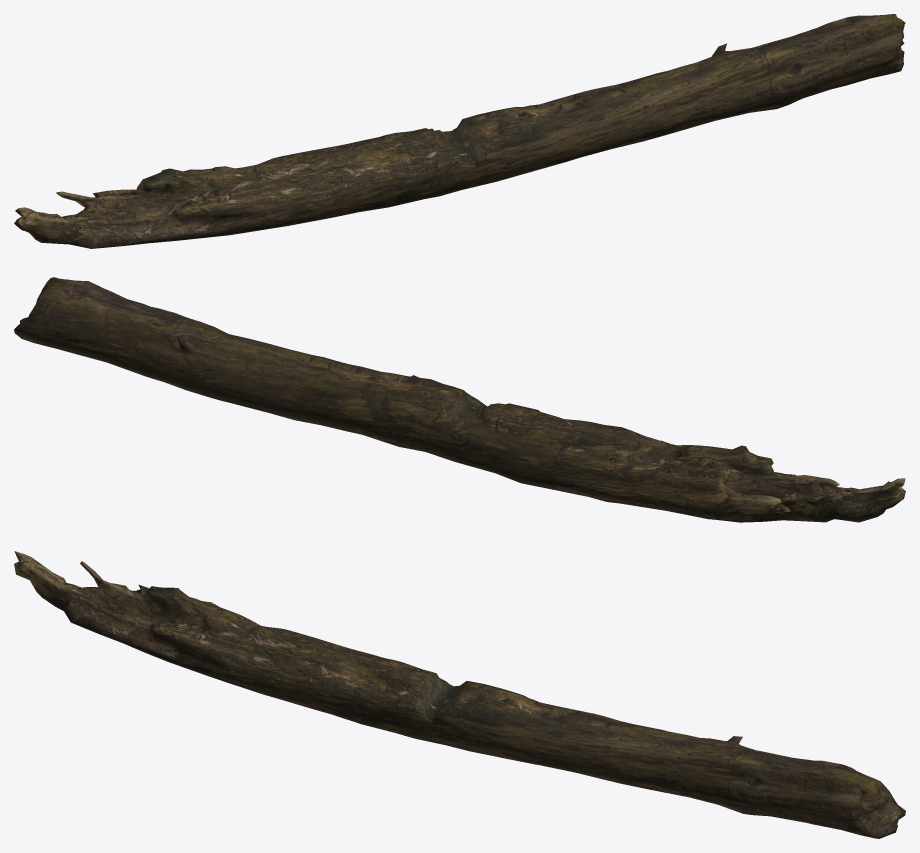
Rendered from dead_tree_trunk.glb.
The picture shows the model from 3 angles, top to bottom: view 1: azimuth 30°, elevation 25°; view 2: azimuth 150°, elevation 25°; view 3: azimuth 330°, elevation 25°; orthographic projection.
Visible parts, largest first — view 1: dead_tree_trunk; view 2: dead_tree_trunk; view 3: dead_tree_trunk.
Part boxes in pixels (<box>): dead_tree_trunk: <box>14,14,905,248</box>; dead_tree_trunk: <box>14,277,905,522</box>; dead_tree_trunk: <box>14,551,905,838</box>.
Bounding box in the file's own units: 3.05 × 0.2899 × 0.2764.
Materials: 1 (1 with a texture image).
